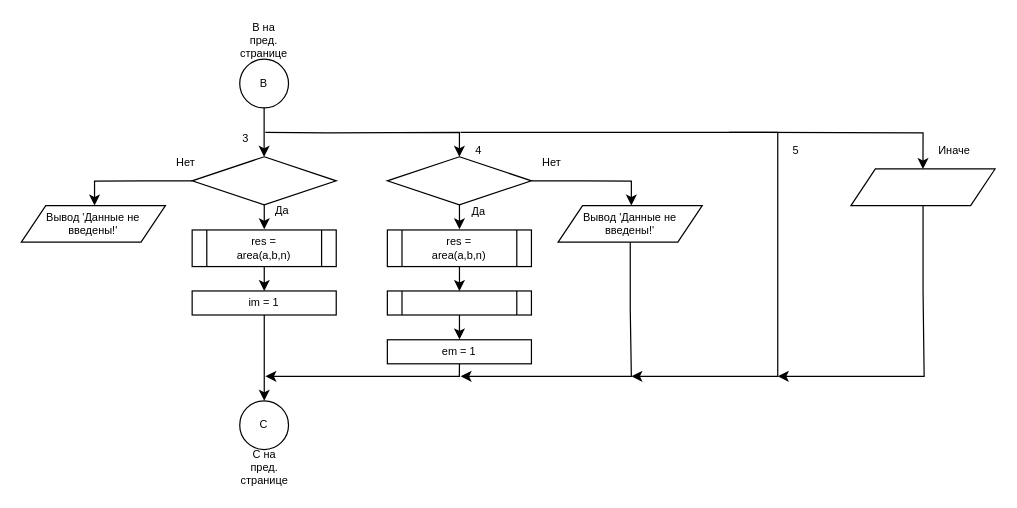
The diagram is 1017 pixels wide and 508 high, and some of its shapes have lost their labels. Here are the shapes that lost their labels. From the top down, the box of each, then its label:
(191, 156, 336, 205): lm И nm = 1 ?
(386, 156, 531, 205): lm = 1 И nm = 1 ?
(850, 168, 995, 206): Вывод 'Неверный ввод'
(386, 290, 531, 315): find_error(a,b,n,error)
